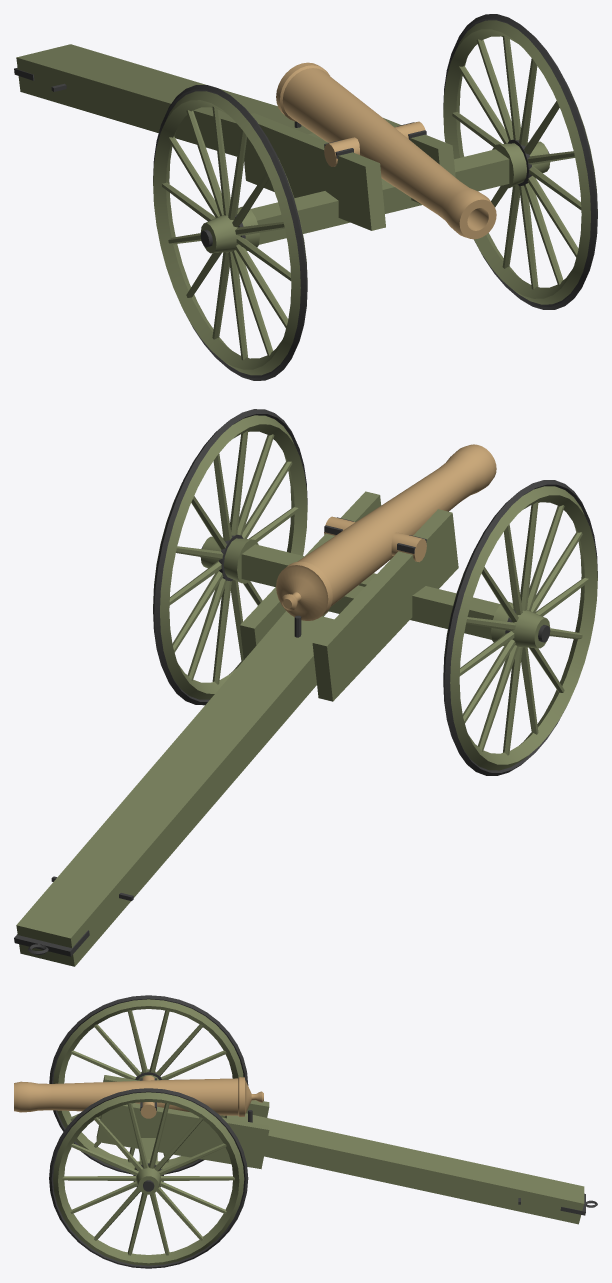
The model's file is SM_FieldCannon.glb.
The picture shows the model from 3 angles, top to bottom: view 1: azimuth 30°, elevation 25°; view 2: azimuth 150°, elevation 25°; view 3: azimuth 270°, elevation 25°; orthographic projection. The views are drawn at different scales.
Visible parts, largest first — view 1: SM_FieldCannon; view 2: SM_FieldCannon; view 3: SM_FieldCannon.
Boxes of the visible parts, x1,y1,x2,y2 form: SM_FieldCannon: [14, 14, 597, 380]; SM_FieldCannon: [14, 409, 597, 966]; SM_FieldCannon: [14, 995, 597, 1268].
Size of the model in its own units: 188 by 145 by 425.
